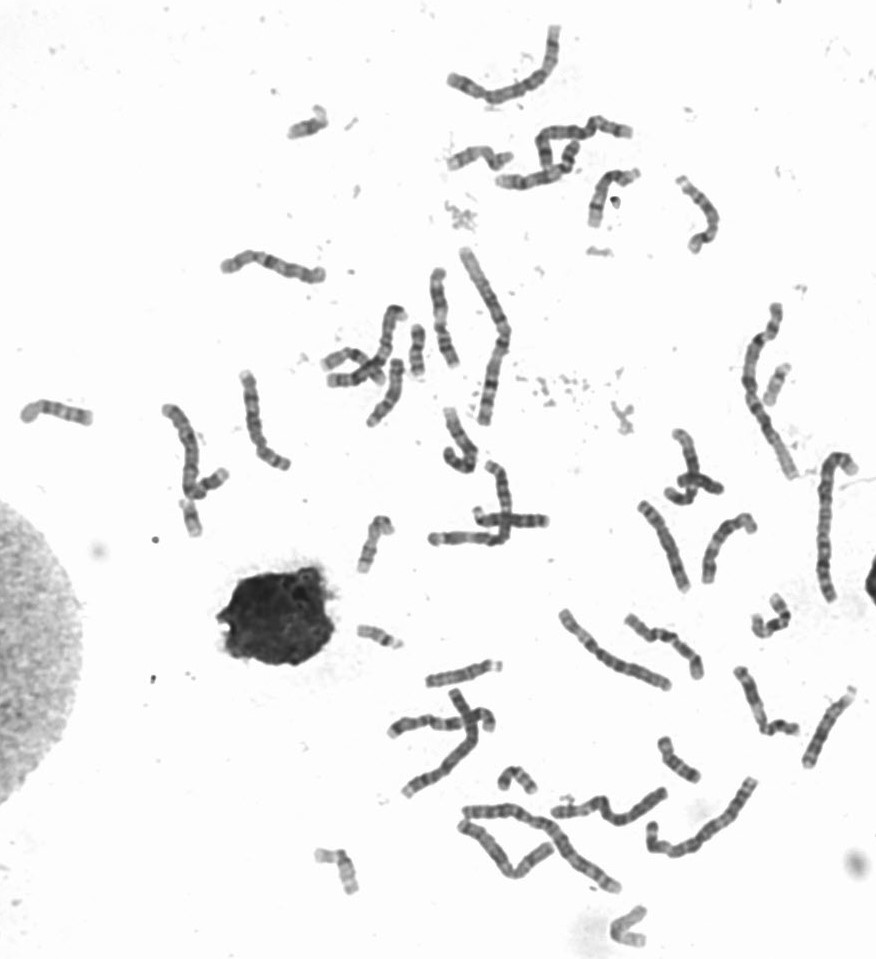chromosomes: (456, 800, 627, 897), (640, 772, 764, 863), (444, 19, 573, 106), (743, 296, 801, 489), (388, 687, 482, 805), (555, 607, 674, 695), (462, 244, 516, 426), (808, 445, 866, 605), (424, 452, 516, 551), (324, 303, 412, 393), (160, 400, 230, 499), (450, 819, 557, 882), (237, 365, 296, 476), (623, 614, 708, 683), (635, 500, 693, 600), (729, 665, 802, 742), (800, 683, 861, 773), (530, 121, 646, 167), (548, 784, 676, 825), (493, 142, 586, 198), (216, 247, 329, 293), (385, 702, 502, 745), (699, 509, 762, 587), (585, 158, 643, 235), (662, 420, 709, 508), (676, 170, 723, 257), (429, 265, 467, 370), (308, 843, 370, 904), (363, 349, 407, 431), (16, 395, 104, 432), (352, 512, 401, 578), (438, 406, 482, 477), (423, 655, 507, 691), (443, 144, 518, 181), (322, 345, 391, 385), (605, 904, 658, 950), (748, 590, 793, 644), (656, 732, 702, 784), (470, 505, 555, 532), (757, 361, 797, 412), (495, 759, 542, 802), (280, 116, 335, 147), (408, 320, 434, 384), (355, 622, 409, 652), (174, 494, 207, 542), (677, 471, 729, 498)
